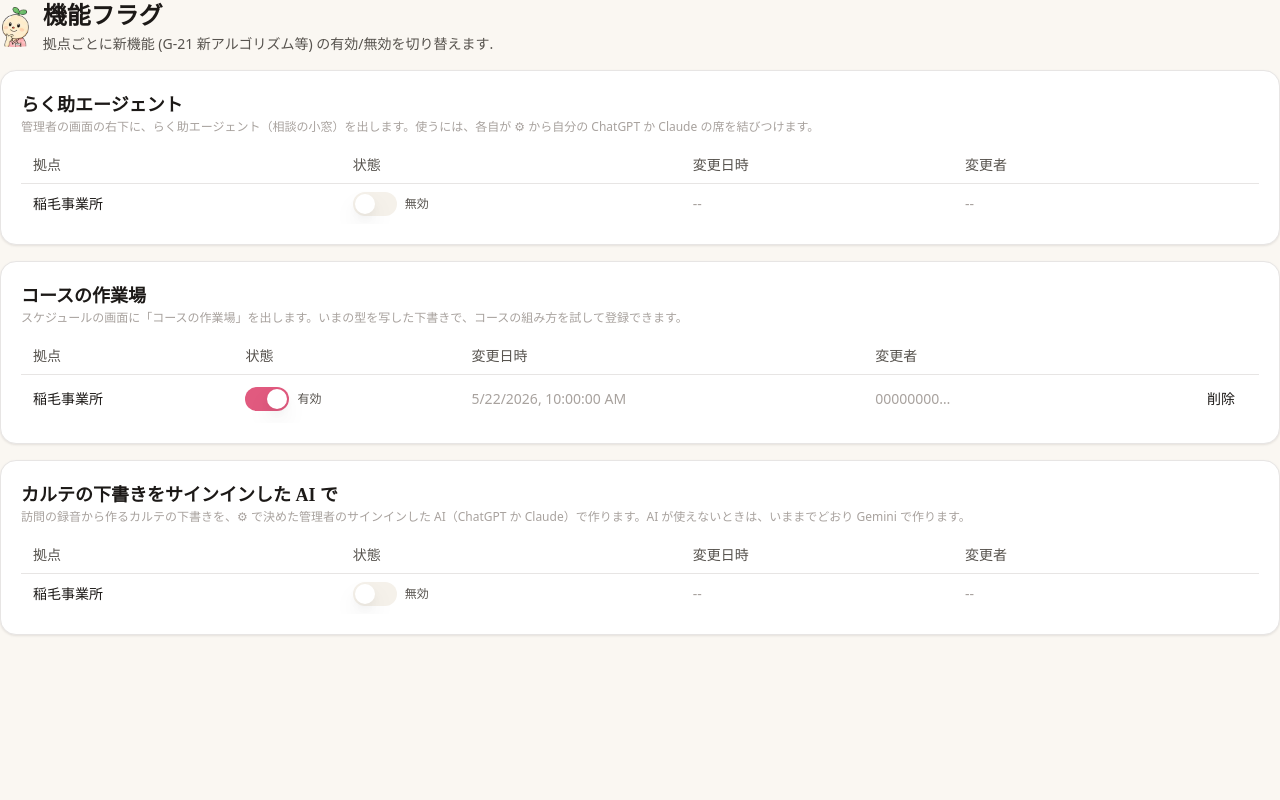
AdminFeatureFlagsPage (Phase G-21 T4) › H4: 削除ボタンクリックで Dialog 2 択 (無効化 / 履歴ごと削除) が開く
Click the button "削除".
click(1221, 399)  # box 1195,383 -> 1247,415
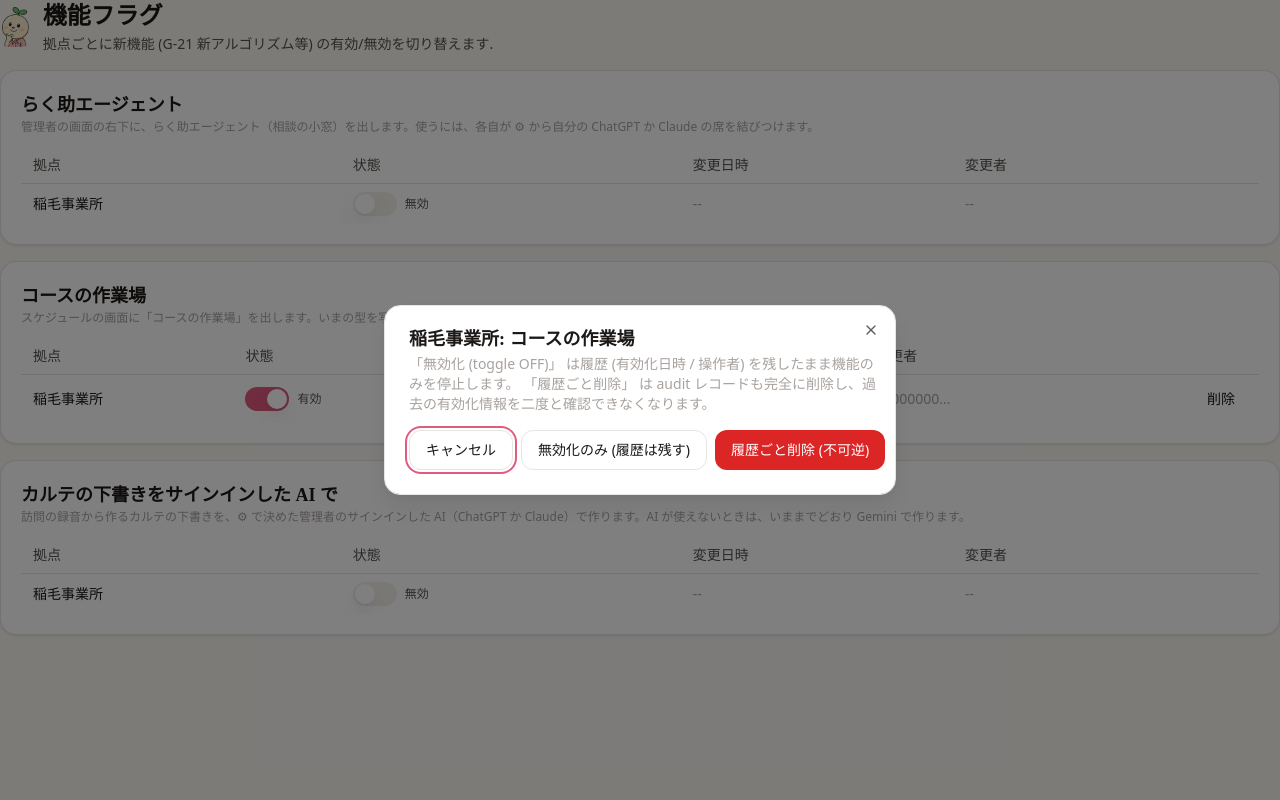
Check: the dialog with test id "feature-flag-confirm-dialog" is shown, box 384,305 -> 896,495
Check: the button with test id "feature-flag-confirm-cancel" is shown, box 409,430 -> 513,470
Check: the button with test id "feature-flag-confirm-disable" is shown, box 521,430 -> 707,470
